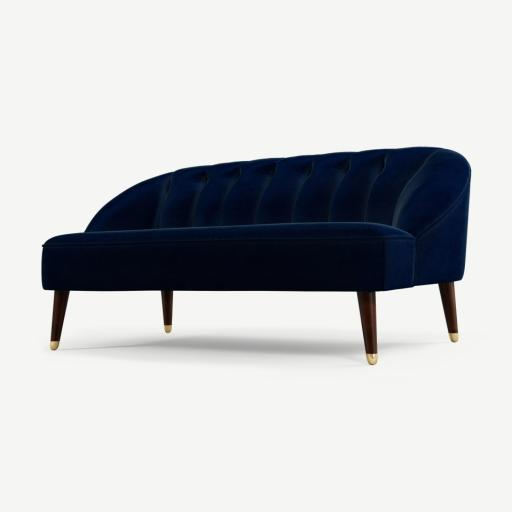back_cushion: (86, 148, 434, 232)
left_arm: (415, 181, 468, 285)
legs: (357, 292, 377, 364), (50, 290, 69, 350), (440, 282, 458, 342), (161, 291, 172, 332)
one-seater: (42, 147, 470, 364)
seat_cushion: (43, 223, 415, 291)
